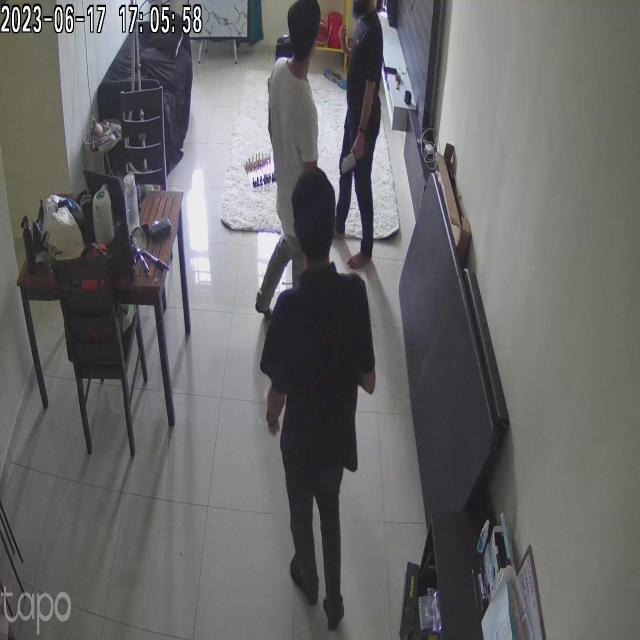Knife: (333, 143, 372, 175)
